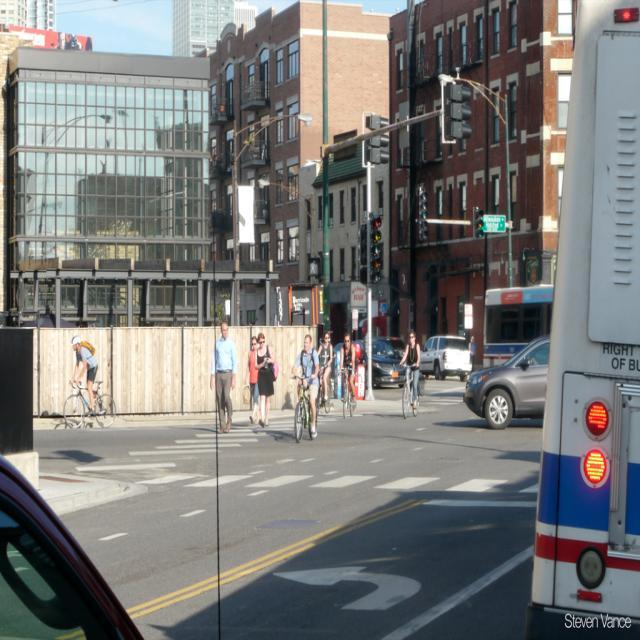off traffic light: (449, 82, 472, 141), (371, 113, 389, 164)
traffic light: (369, 216, 381, 285), (420, 191, 427, 242), (473, 207, 483, 242)
